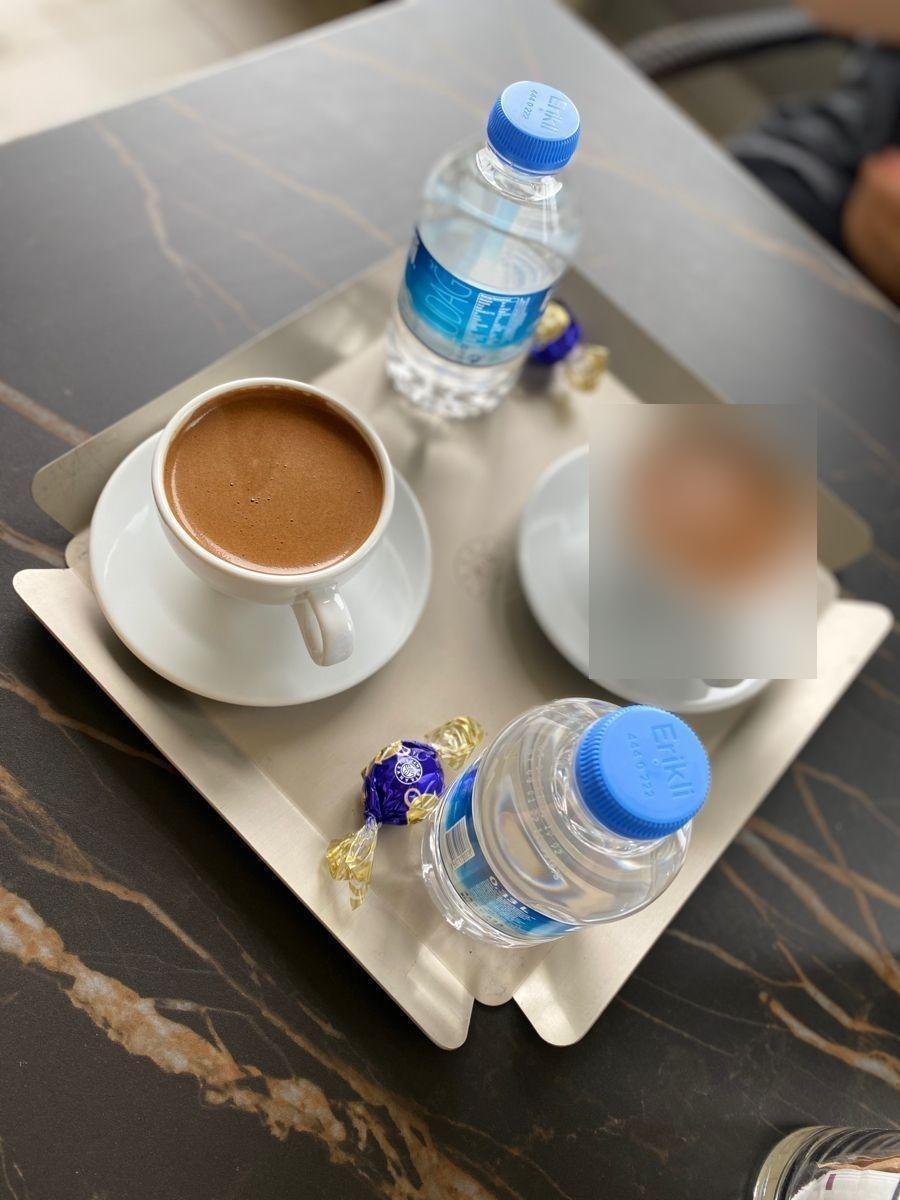bottle-plastic: (416, 687, 718, 953), (382, 77, 587, 422)
cup-handle: (143, 369, 405, 671)
